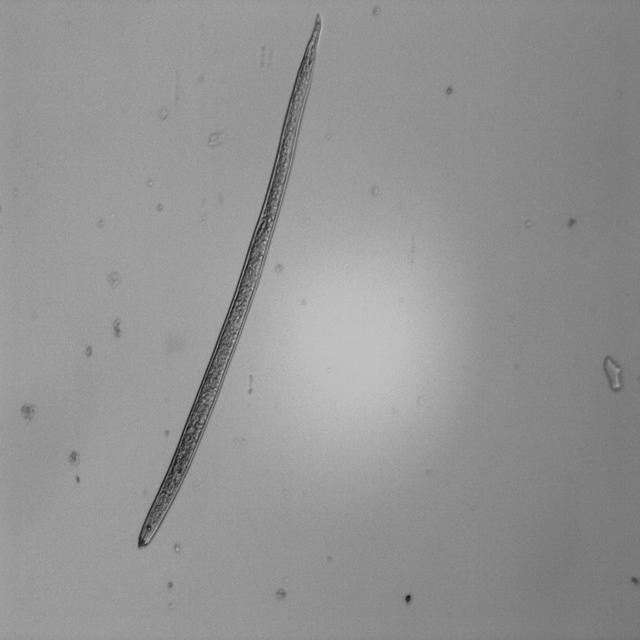Radopholus: (129, 13, 328, 544)
